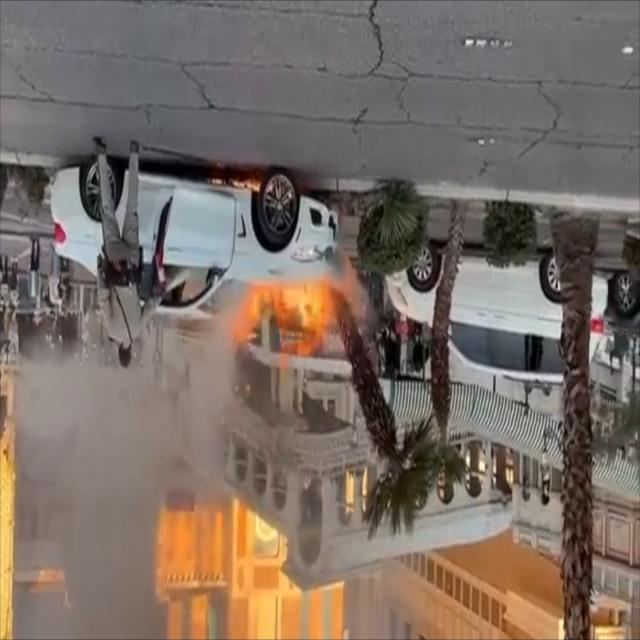fire: (238, 274, 355, 358)
